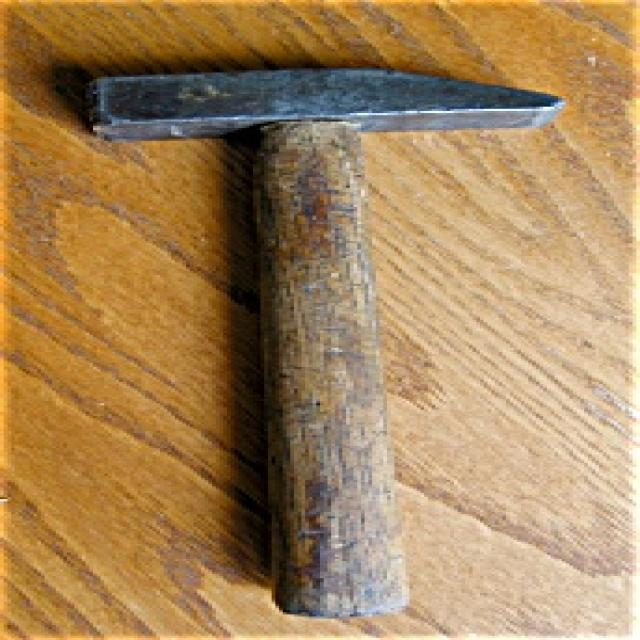hammer: (48, 7, 592, 580)
